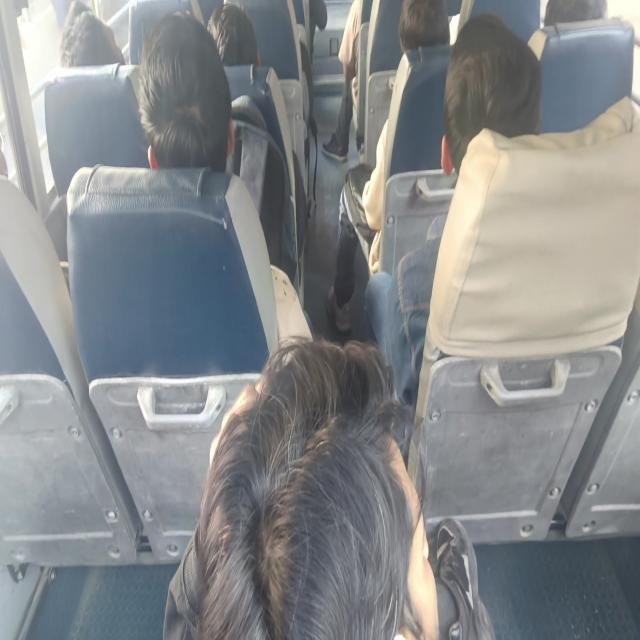person: (202, 346, 442, 640), (136, 36, 236, 180), (444, 32, 536, 171), (58, 0, 120, 72), (201, 0, 260, 61), (397, 0, 449, 56), (541, 0, 610, 30)
